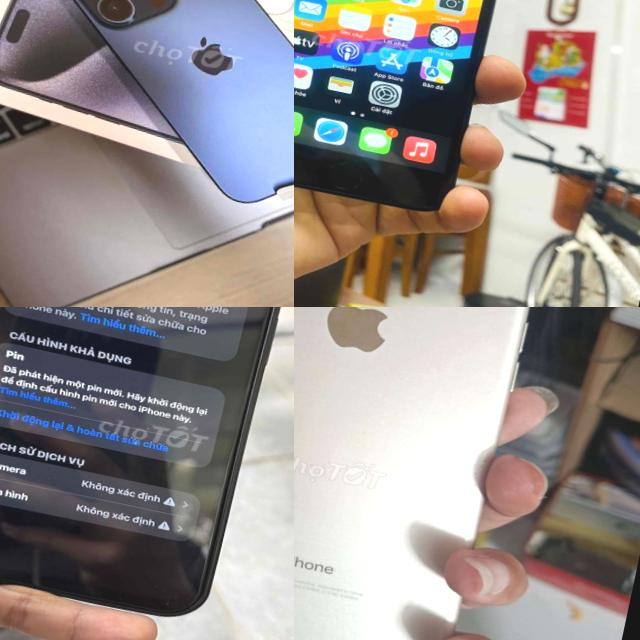gen_12_13: (0, 307, 294, 640)
gen_15: (17, 0, 294, 229)
gen_7_8: (294, 307, 566, 640), (294, 0, 537, 230)
